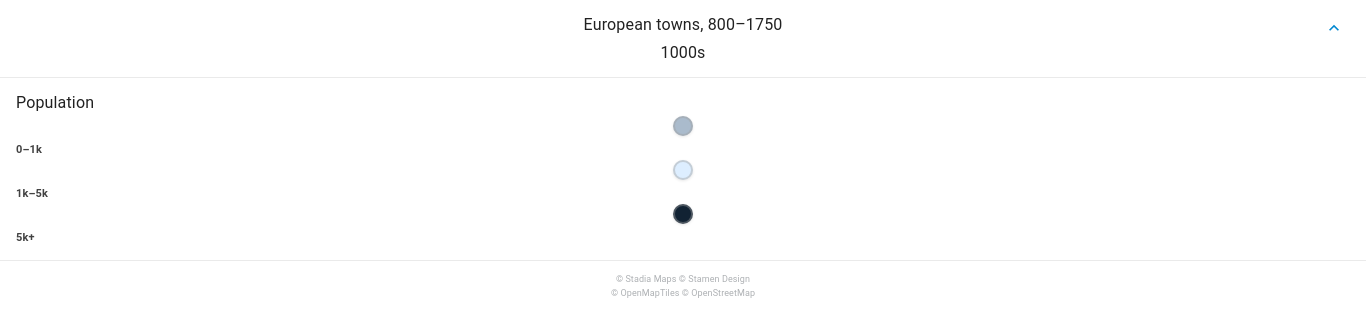
Scenario: LegendContent (desktop smoke) › toggles collapse button aria-expanded state on click
The image size is (1366, 315).
What coordinates should you click on to do the following:
click the button named "Collapse legend"
I would click on:
 (1334, 28)
Its box is left=1318, top=12, right=1350, bottom=44.
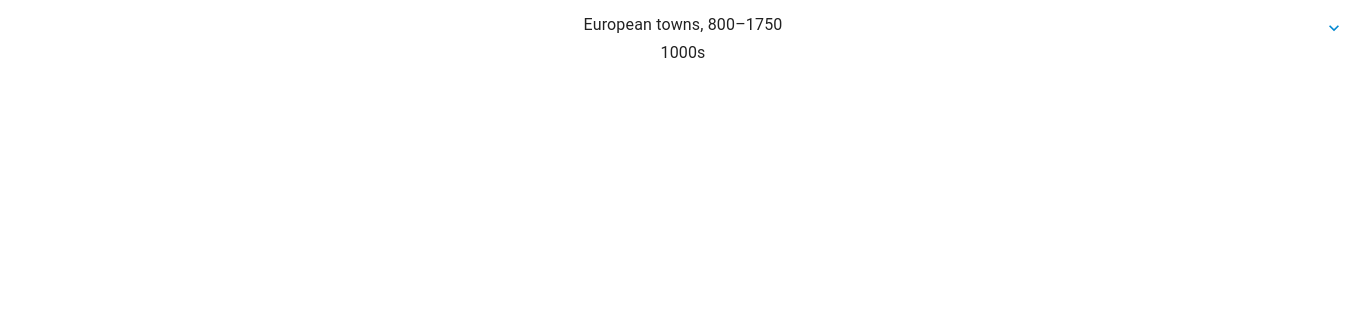
Expected: the button named "Collapse legend" is collapsed, left=1318, top=12, right=1350, bottom=44
